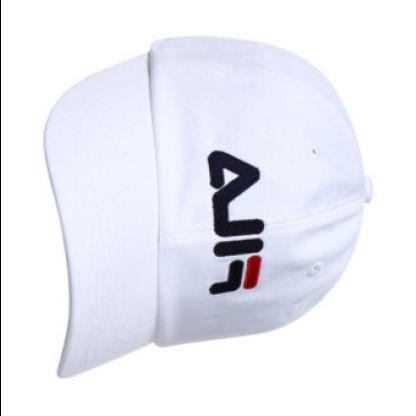cap: (39, 29, 379, 387)
